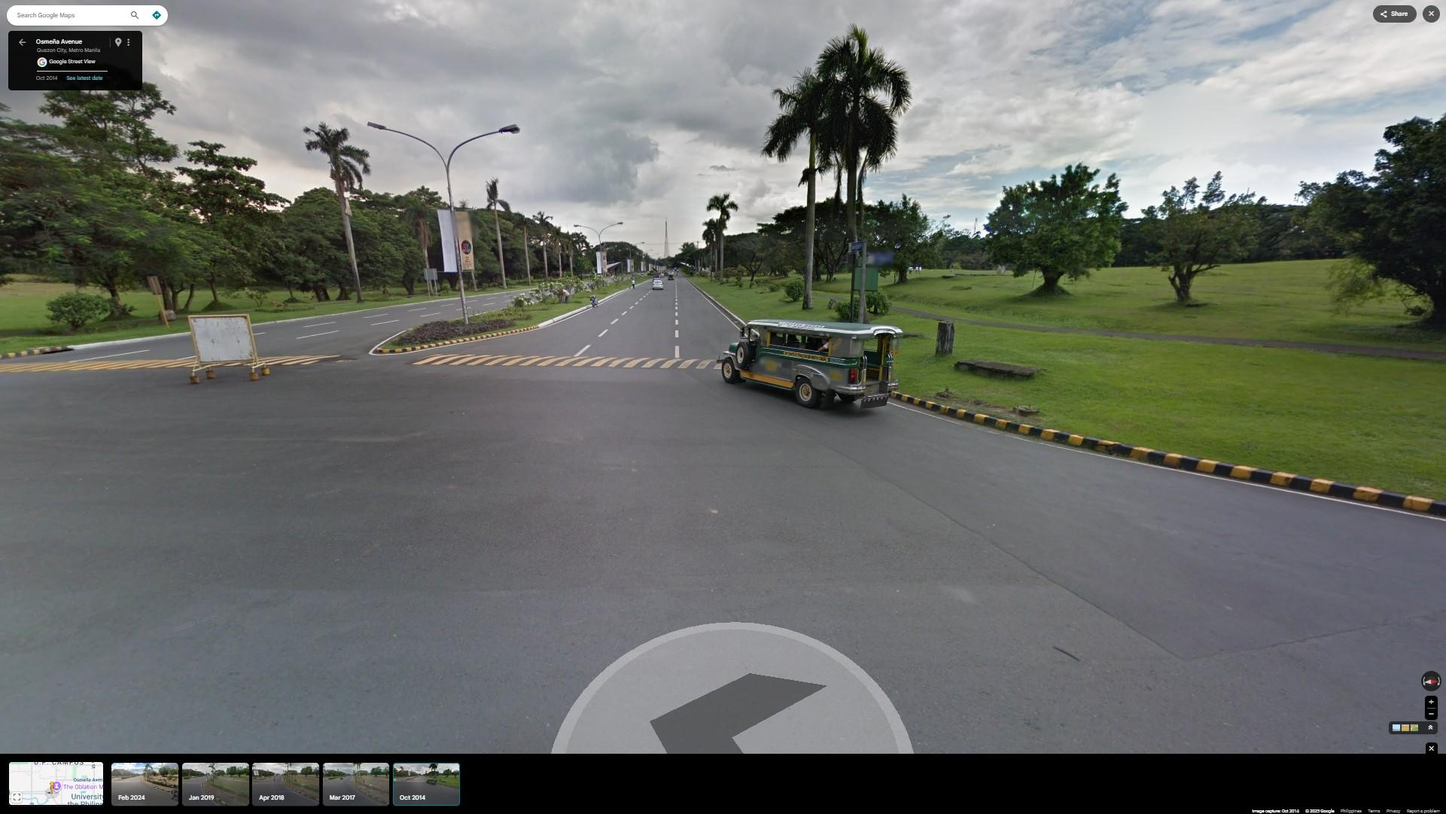pedestrian: (559, 289, 570, 304), (631, 279, 635, 290), (676, 272, 678, 277)
